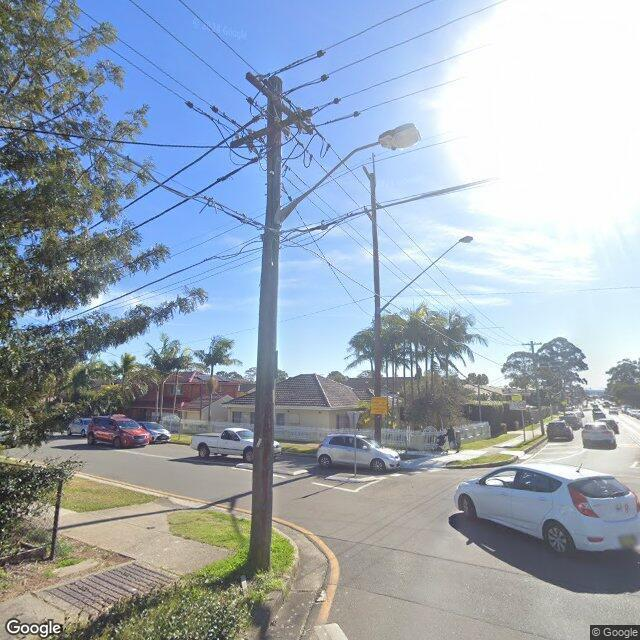HV-transmission: (360, 166, 380, 223)
crossarm: (245, 72, 313, 134), (230, 109, 314, 150), (522, 342, 542, 346)
streetlight: (276, 122, 422, 228), (376, 235, 473, 315)
timber-pole: (246, 76, 283, 573), (369, 172, 381, 447), (530, 340, 545, 436)
